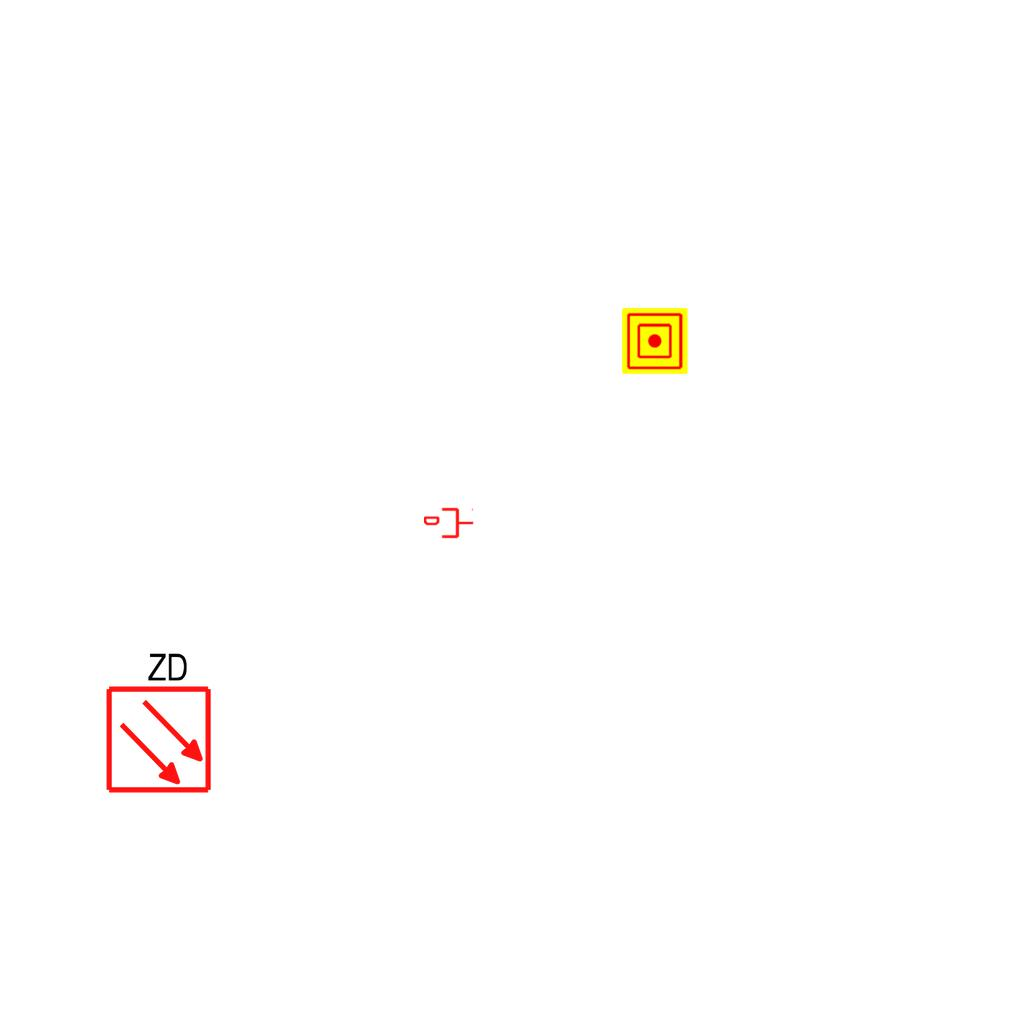Datenanschluss_einfach: (424, 506, 474, 540)
NAM-Nichtautomatischer_Melder: (622, 308, 688, 374)
ZD_Melder_in_Zwischendecke_mit_Revisionsoeffnung_mind_40_x_40_cm: (100, 646, 214, 795)
